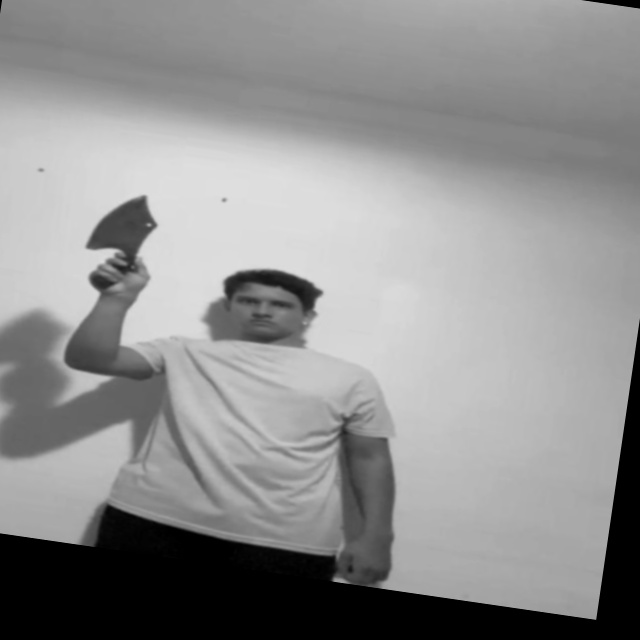Sharp-Object: (82, 186, 164, 258)
